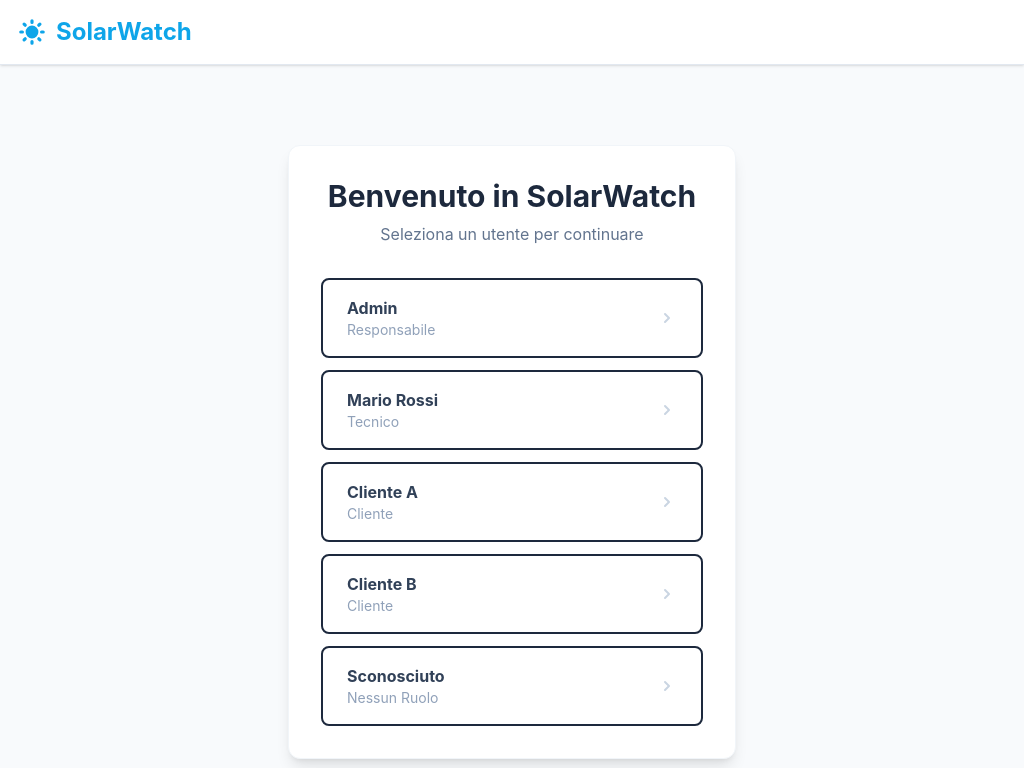
Scenario: Gestione Impianti › [POSITIVO] Cliente A vede solo i propri impianti, non quelli di Cliente B
The image size is (1024, 768).
Click the button with test id "login-user-3" at (382, 492), box left=321, top=462, right=703, bottom=542
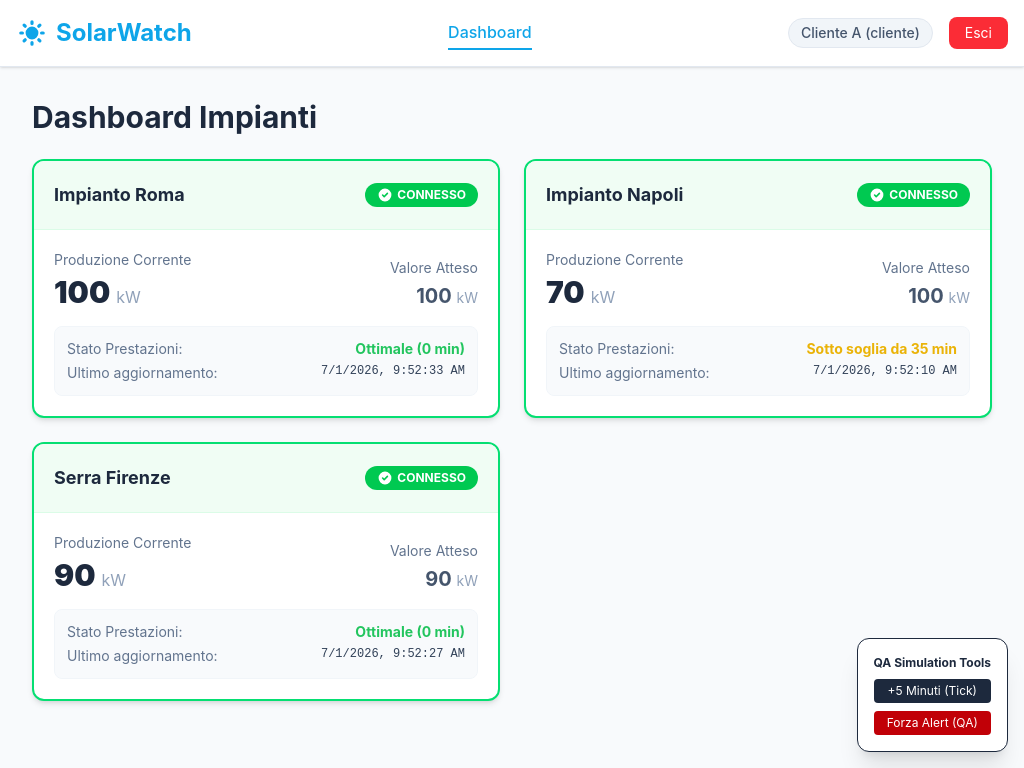
Check: the element with test id "plant-card-101" is shown, box left=32, top=159, right=500, bottom=418
Check: the element with test id "plant-card-103" is shown, box left=524, top=159, right=992, bottom=418
Check: the element with test id "plant-card-105" is shown, box left=32, top=442, right=500, bottom=701
